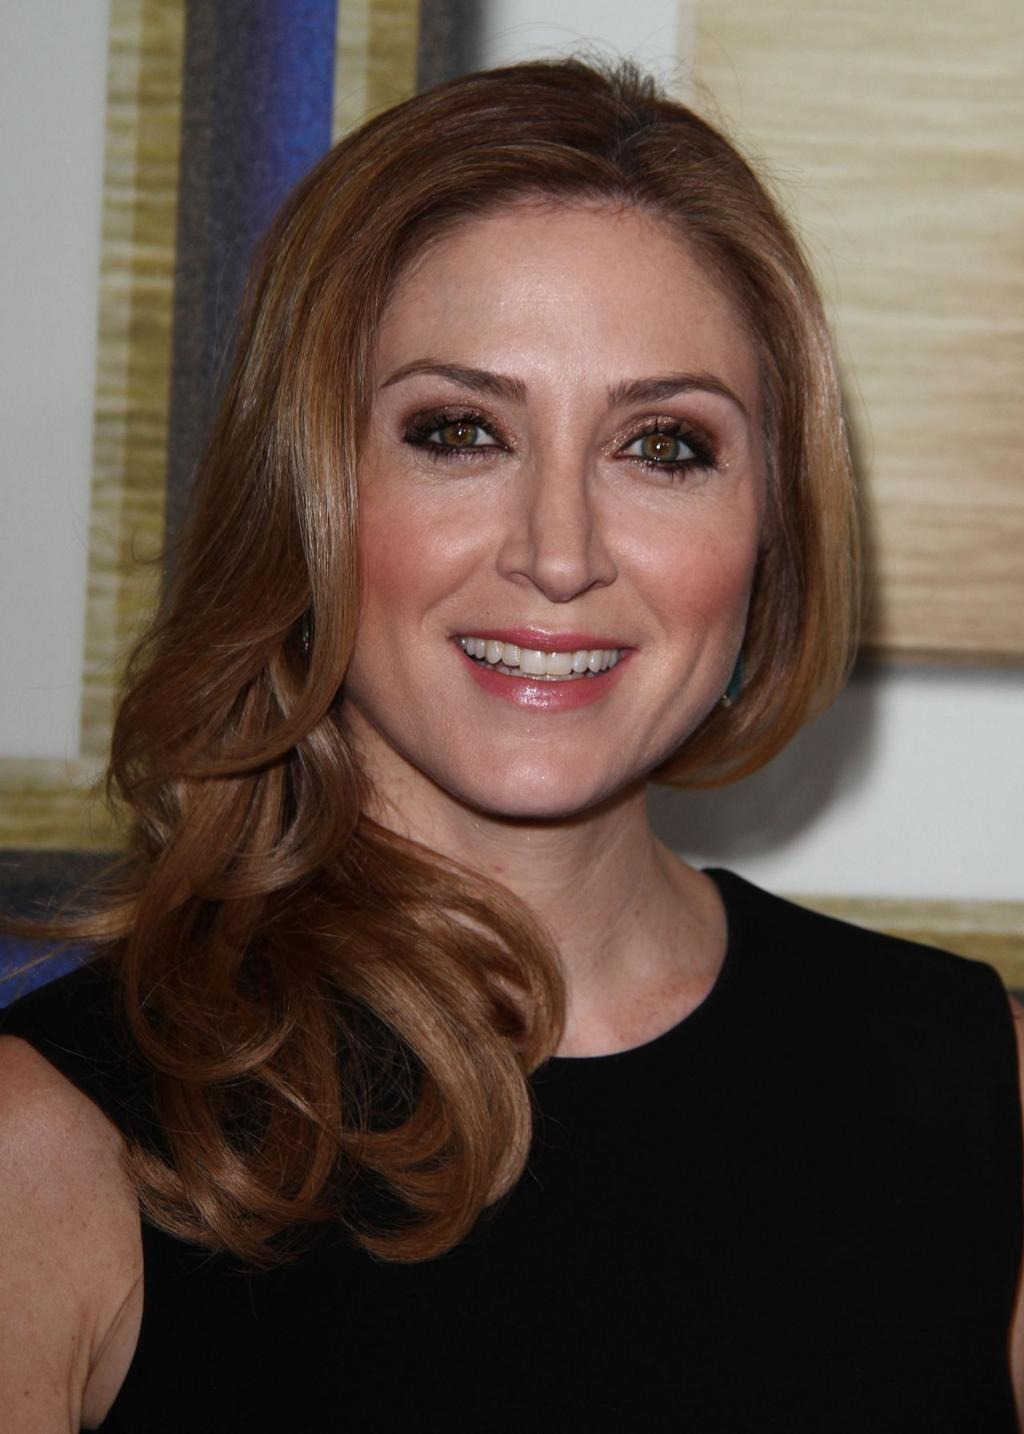face: (327, 171, 777, 817)
